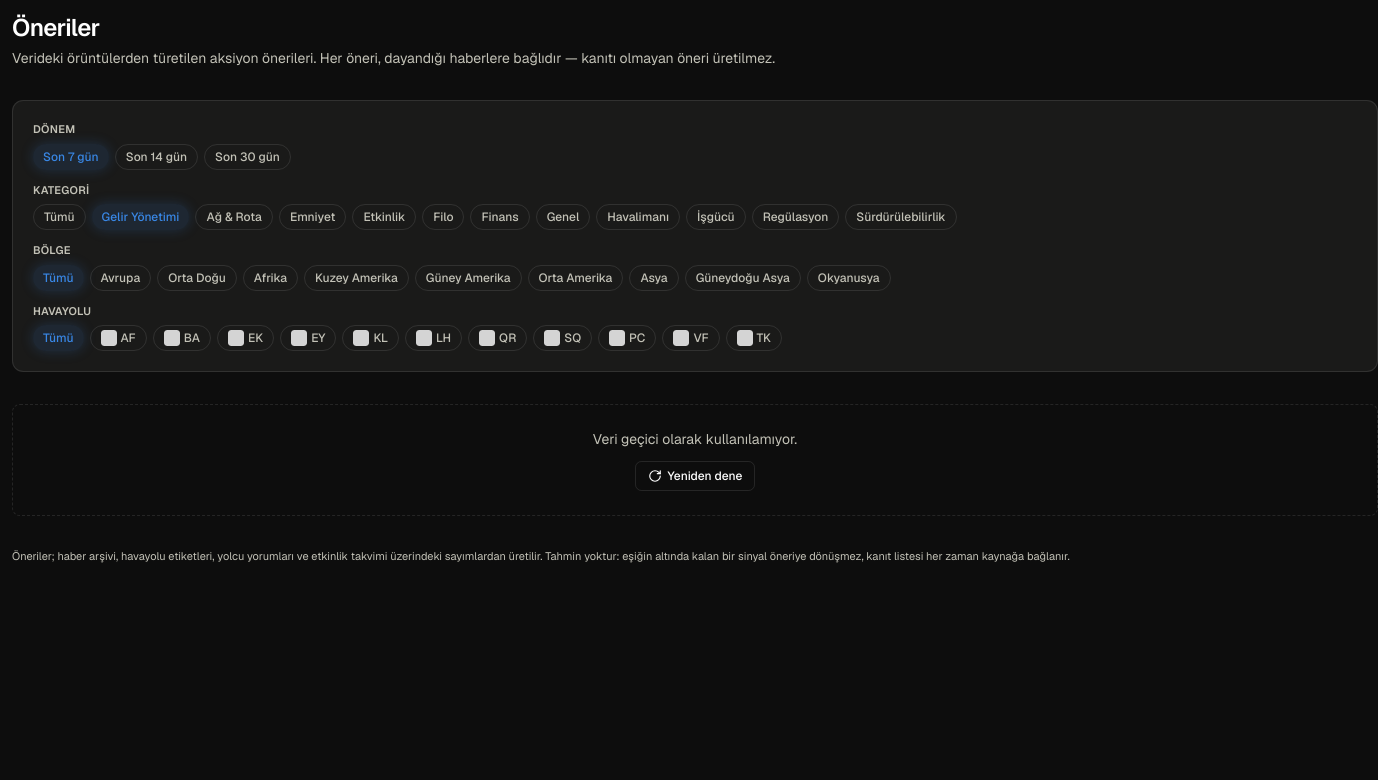
Test: RecommendationsClient › offers a retry when the recommendations cannot be read, and prints no empty-state claim
Expected: the text "Veri geçici olarak kullanılamıyor." is shown, [593,429,797,449]
What coordinates should you click on to do the following:
click the button "Yeniden dene"
I would click on:
 (695, 476)
Its box is [635,461,756,491].
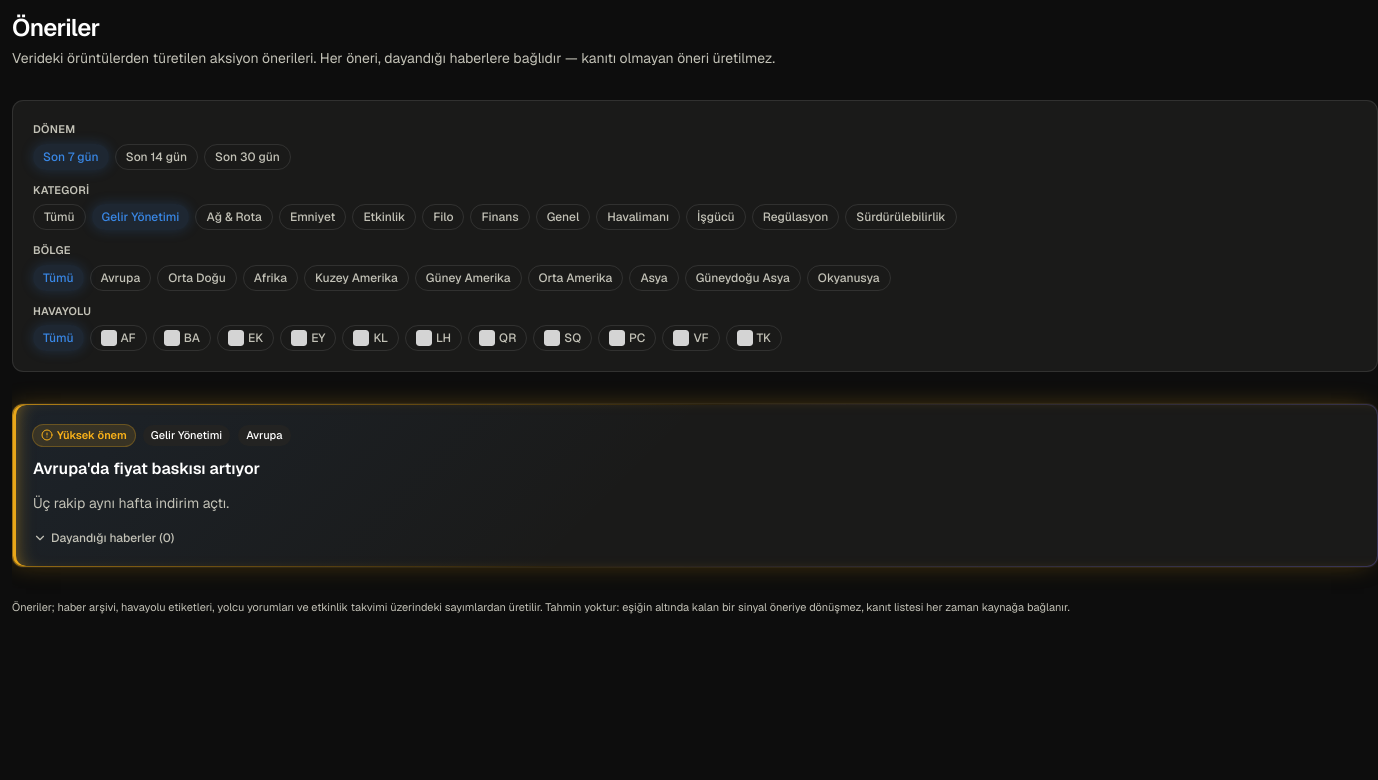
Expected: the heading "Avrupa'da fiyat baskısı artıyor" is shown, [33,458,260,478]
